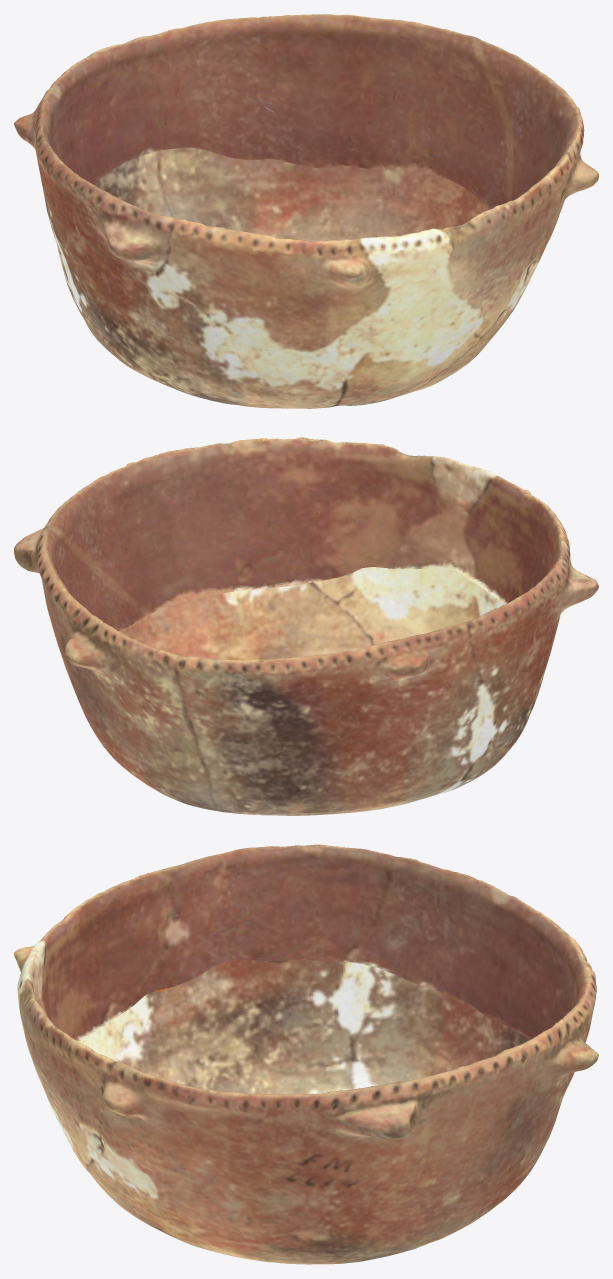
File: Ark_HM_321_HI.glb
3 views of the same model, one above another, from view 1: azimuth 30°, elevation 25°; view 2: azimuth 150°, elevation 25°; view 3: azimuth 270°, elevation 25° (orthographic). The views are drawn at different scales.
Bounding box in the file's own units: 0.4988 × 0.2261 × 0.4917.
Materials: 1 (1 with a texture image).
